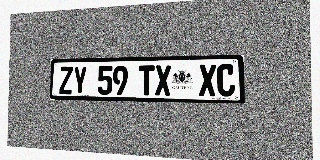5: (98, 66, 113, 95)
9: (113, 66, 128, 95)
C: (217, 64, 235, 97)
T: (139, 65, 154, 95)
X: (199, 64, 216, 96), (155, 65, 171, 96)
Y: (73, 66, 87, 95)
Z: (59, 66, 73, 94)
